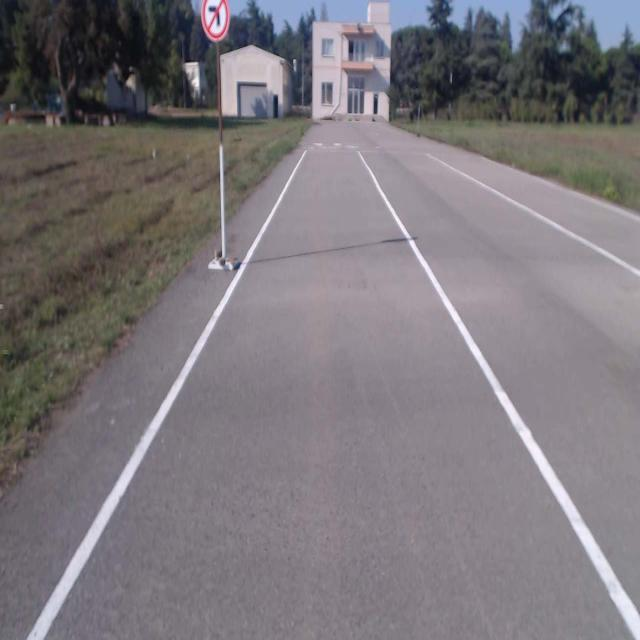soladonulmez: (202, 1, 230, 42)
